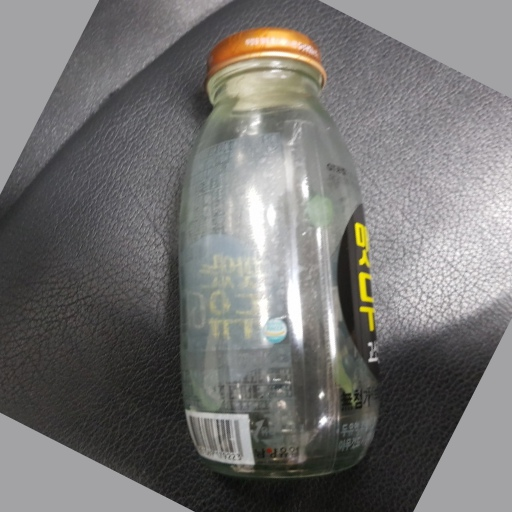Glass_4: (161, 22, 398, 486)
